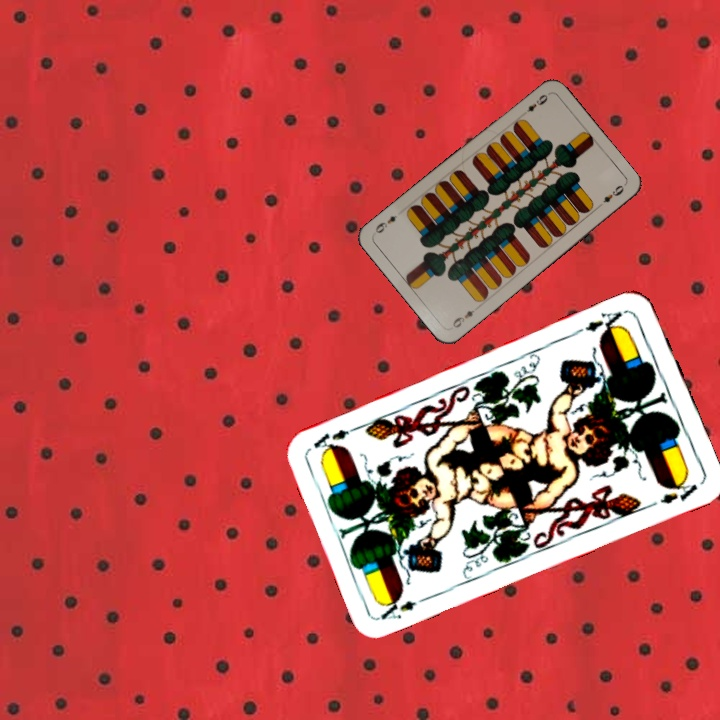E9: (448, 306, 477, 331), (522, 90, 550, 115)
EA: (375, 591, 433, 623), (573, 306, 629, 339)
